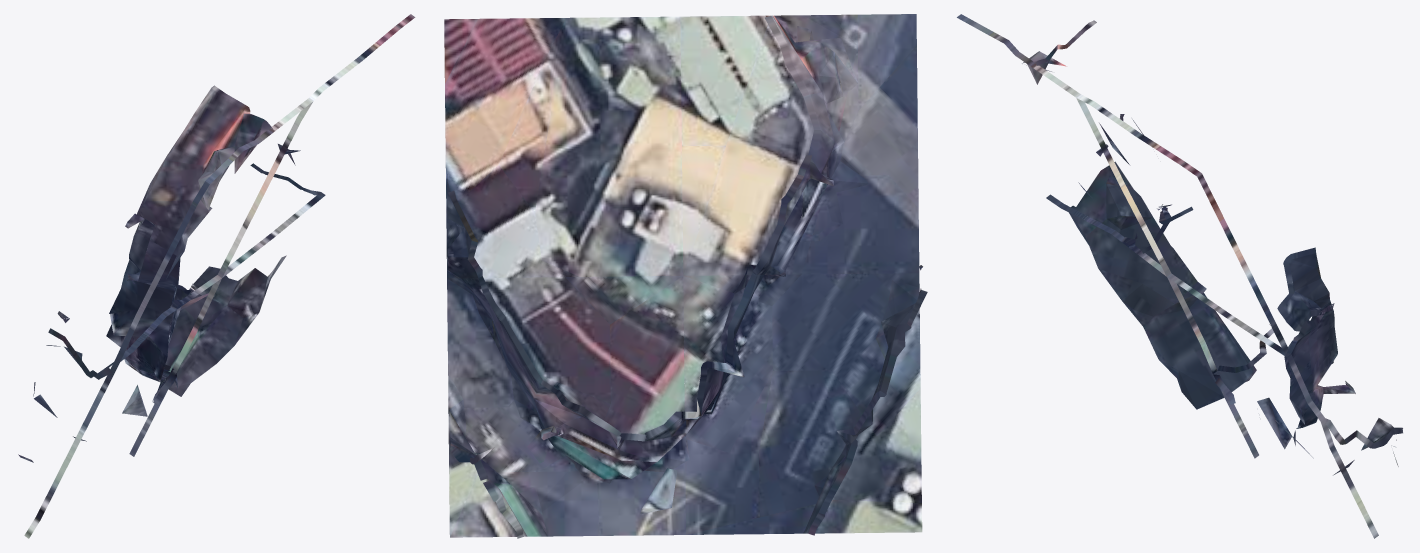
3 renders of one model, left to right at view 1: azimuth 30°, elevation 25°; view 2: azimuth 150°, elevation 25°; view 3: azimuth 270°, elevation 25°, orthographic. The views are drawn at different scales.
Size of the model in its own units: 38.04 by 37.16 by 34.46.
1 material, 1 textured.
